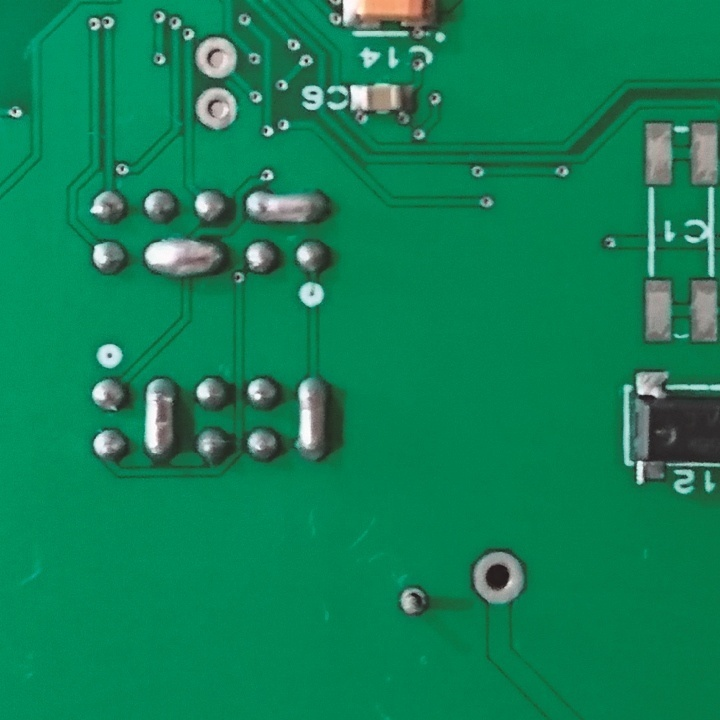F: (468, 548, 524, 607), (194, 85, 241, 134), (196, 35, 240, 80), (400, 583, 427, 620)
P: (144, 235, 224, 280), (293, 373, 332, 464), (241, 190, 333, 228), (141, 375, 178, 463)
